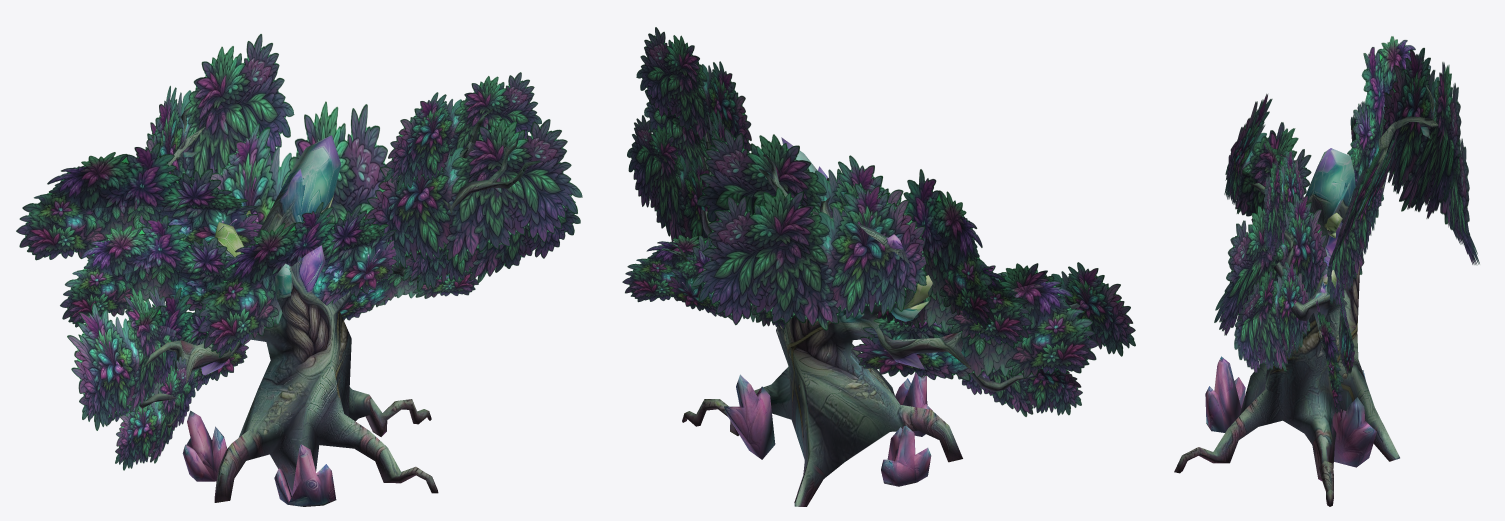
Rendered from tree.glb.
The picture shows the model from 3 angles, left to right: view 1: azimuth 30°, elevation 25°; view 2: azimuth 150°, elevation 25°; view 3: azimuth 270°, elevation 25°; orthographic projection.
Visible parts, largest first — view 1: Leaves02, Tree, Leaves01; view 2: Leaves01, Tree, Leaves02; view 3: Leaves01, Tree, Leaves02.
Boxes of the visible parts, box(x1,y1,x2,y2) form: Leaves02: box(16, 34, 582, 470); Tree: box(117, 63, 540, 506); Leaves01: box(16, 34, 576, 469); Leaves01: box(622, 27, 1135, 416); Tree: box(661, 131, 1080, 506); Leaves02: box(627, 27, 1135, 416); Leaves01: box(1215, 36, 1479, 413); Tree: box(1174, 85, 1438, 506); Leaves02: box(1214, 36, 1478, 413).
Size of what is drawn, in the model's own units: 22.36 by 16.07 by 11.49.
Materials: 2 (2 with a texture image).
